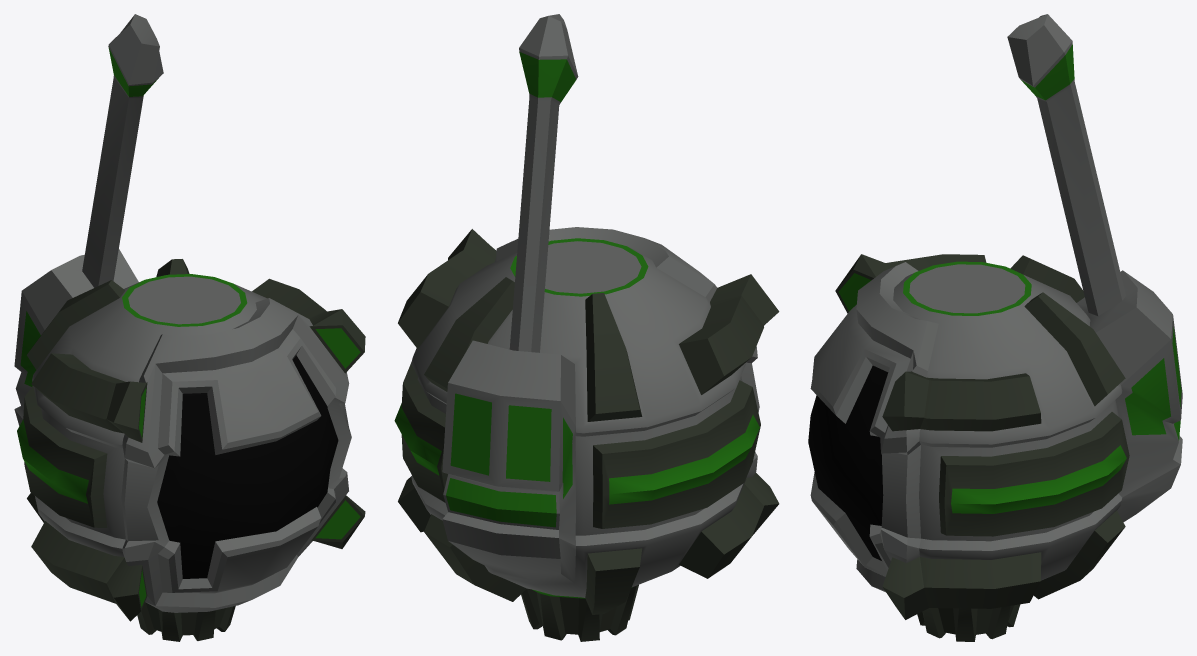
Rendered from Seal_ExplorerLinker.fbx.
3 renders of one model, left to right at view 1: azimuth 30°, elevation 25°; view 2: azimuth 150°, elevation 25°; view 3: azimuth 270°, elevation 25°, orthographic. The views are drawn at different scales.
Visible parts, largest first — view 1: Sphere.002; view 2: Sphere.002; view 3: Sphere.002.
Part boxes in pixels (<box>): Sphere.002: <box>14,14,365,641</box>; Sphere.002: <box>394,14,779,641</box>; Sphere.002: <box>808,14,1182,641</box>.
Size of the model in its own units: 58.41 by 111 by 62.17.
